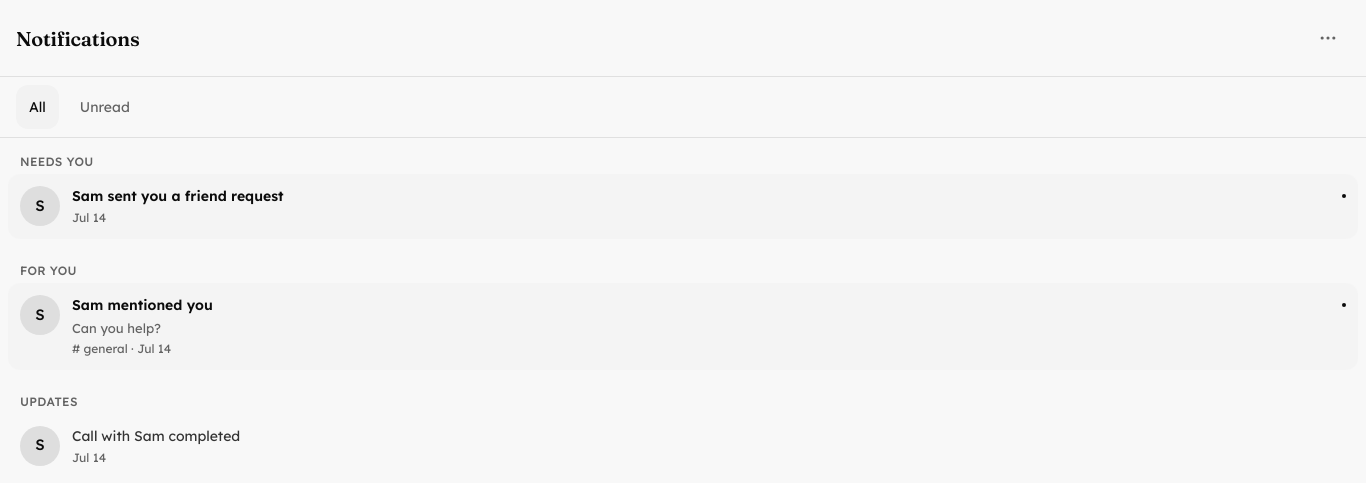
Scenario: NotificationList › keeps bulk actions in one quiet overflow menu
What coordinates should you click on to do the following:
click the button named "Notification actions"
I would click on:
 (1328, 38)
Its box is [1306, 16, 1350, 60].
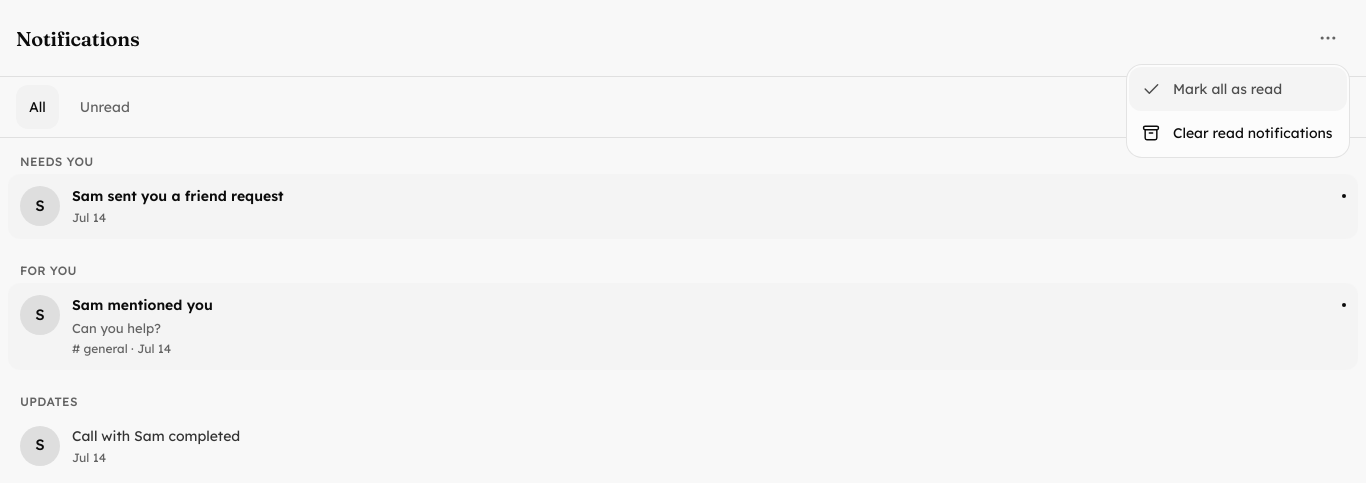
Expected: the menu item "Mark all as read" is shown, [1129, 67, 1347, 111]
Expected: the menu item "Clear read notifications" is shown, [1141, 123, 1333, 143]
